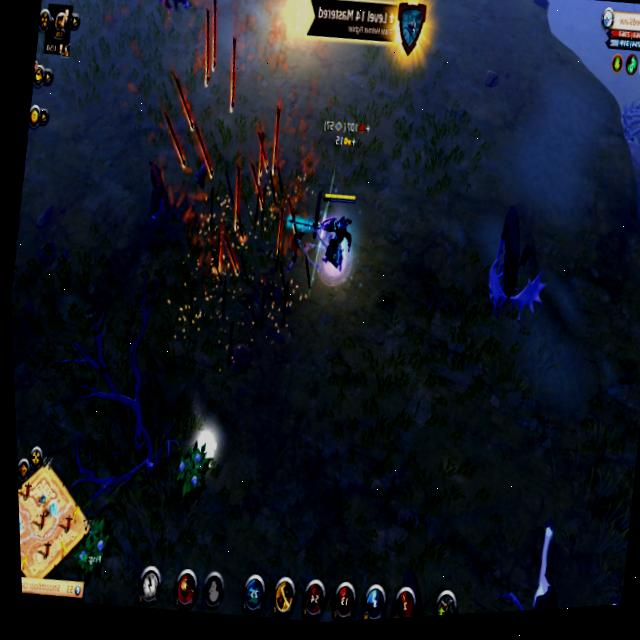hide: (65, 503, 122, 593), (166, 436, 217, 511)
mob: (493, 506, 577, 612)
ore: (473, 190, 557, 326), (138, 154, 180, 229)
red: (306, 183, 365, 287)
